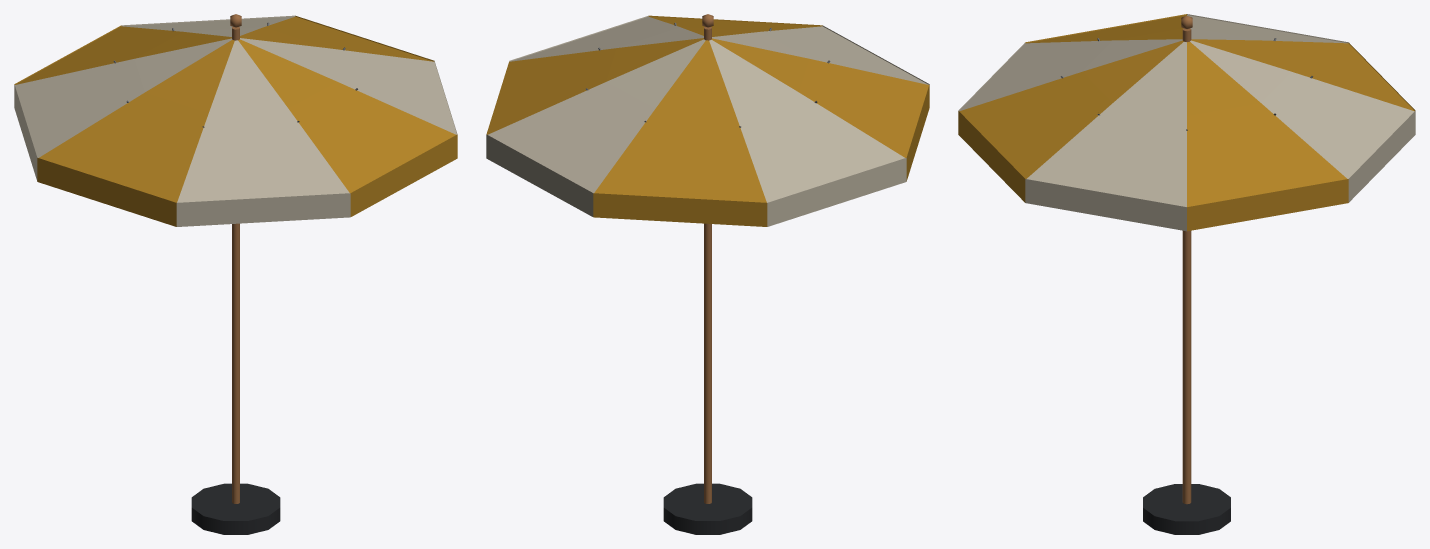
Rendered from patio_umbrellas.glb.
3 views of the same model, side by side, from view 1: azimuth 30°, elevation 25°; view 2: azimuth 150°, elevation 25°; view 3: azimuth 270°, elevation 25° (orthographic).
Visible parts, largest first — view 1: patio_umbrella_marigold; view 2: patio_umbrella_marigold; view 3: patio_umbrella_marigold.
Part boxes in pixels (bbox=[...]): patio_umbrella_marigold: bbox=[14, 14, 457, 534]; patio_umbrella_marigold: bbox=[486, 14, 929, 534]; patio_umbrella_marigold: bbox=[958, 14, 1415, 534].
Size of what is drawn, in the model's own units: 2.4 by 2.9 by 2.4.
